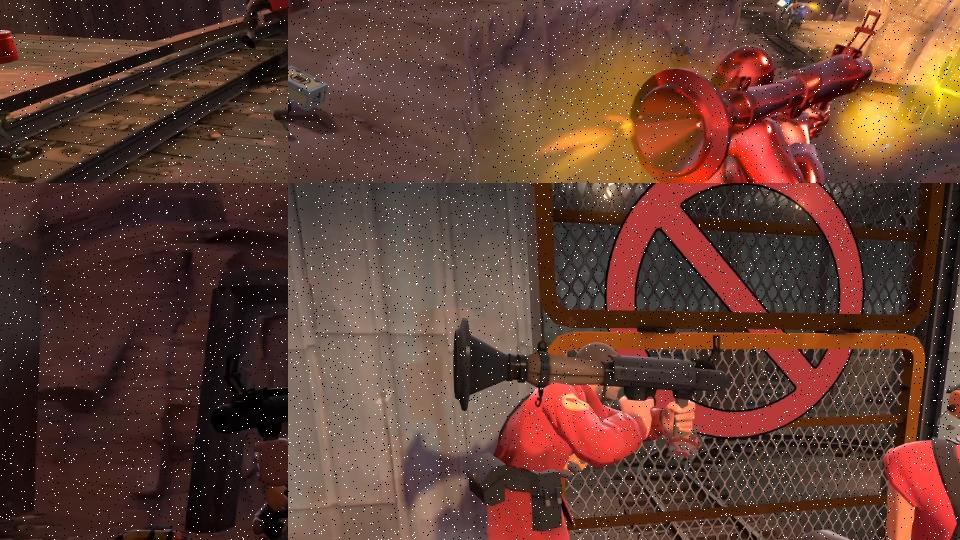Enemy: (451, 317, 733, 540), (523, 8, 880, 183), (795, 348, 960, 540), (231, 0, 288, 54), (785, 0, 803, 36), (777, 0, 800, 21)
